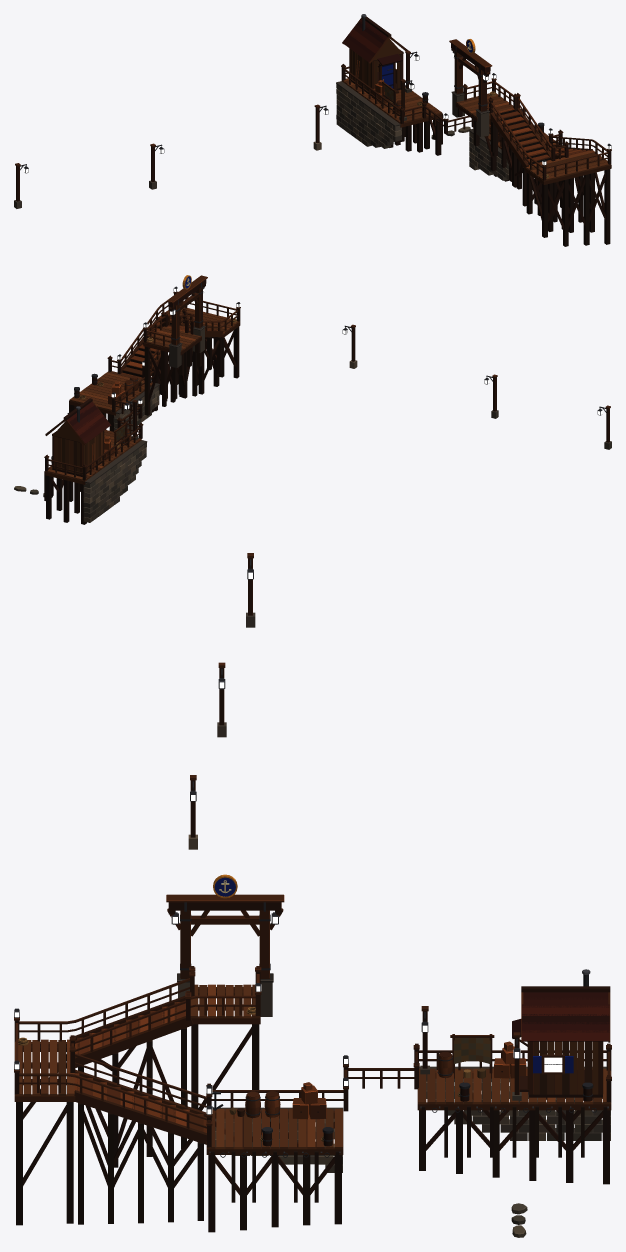
File: wyrmwatch_harbor_source.glb
3 renders of one model, top to bottom at view 1: azimuth 30°, elevation 25°; view 2: azimuth 150°, elevation 25°; view 3: azimuth 270°, elevation 25°, orthographic. The views are drawn at different scales.
Parts seen in each view (by area): view 1: Landings, QuayDecks, Railings, StairFlights, HarborShack, HarborGate, Lanterns, Cargo; view 2: QuayDecks, Landings, Railings, HarborShack, StairFlights, HarborGate, Lanterns, Cargo, HarborClutter; view 3: QuayDecks, StairFlights, HarborShack, Landings, Railings, HarborGate, HarborTrim, Cargo, Lanterns, HarborClutter.
Part boxes in pixels (x1,y1,x2,y2): Landings: (455, 93, 611, 246); QuayDecks: (336, 78, 558, 187); Railings: (341, 64, 611, 180); StairFlights: (490, 108, 592, 229); HarborShack: (342, 14, 408, 96); HarborGate: (449, 39, 492, 137); Lanterns: (14, 50, 611, 208); Cargo: (372, 81, 544, 143); QuayDecks: (44, 371, 159, 524); Landings: (143, 307, 240, 415); Railings: (44, 291, 240, 480); HarborShack: (45, 398, 111, 476); StairFlights: (120, 317, 223, 410); HarborGate: (166, 275, 207, 367); Lanterns: (67, 286, 611, 449); Cargo: (51, 373, 138, 464); HarborClutter: (79, 318, 236, 471); QuayDecks: (206, 1066, 611, 1232); StairFlights: (74, 996, 206, 1224); HarborShack: (512, 969, 610, 1097); Landings: (14, 984, 260, 1225); Railings: (14, 966, 611, 1147); HarborGate: (166, 874, 284, 1016); HarborTrim: (180, 902, 608, 1202); Cargo: (245, 1034, 593, 1146); Lanterns: (14, 553, 521, 1114); HarborClutter: (18, 1007, 577, 1141).
Bounding box in the file's own units: 60.34 × 19.03 × 35.46.
